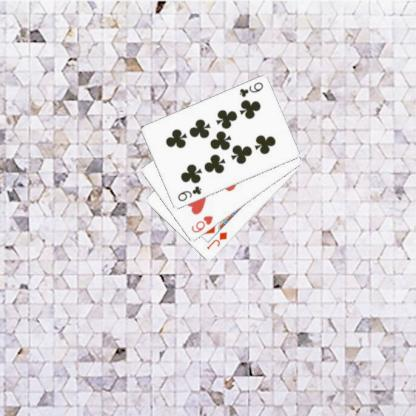6H: (189, 213, 214, 234)
9C: (175, 183, 203, 203), (236, 79, 264, 99)
JD: (204, 229, 228, 251)
